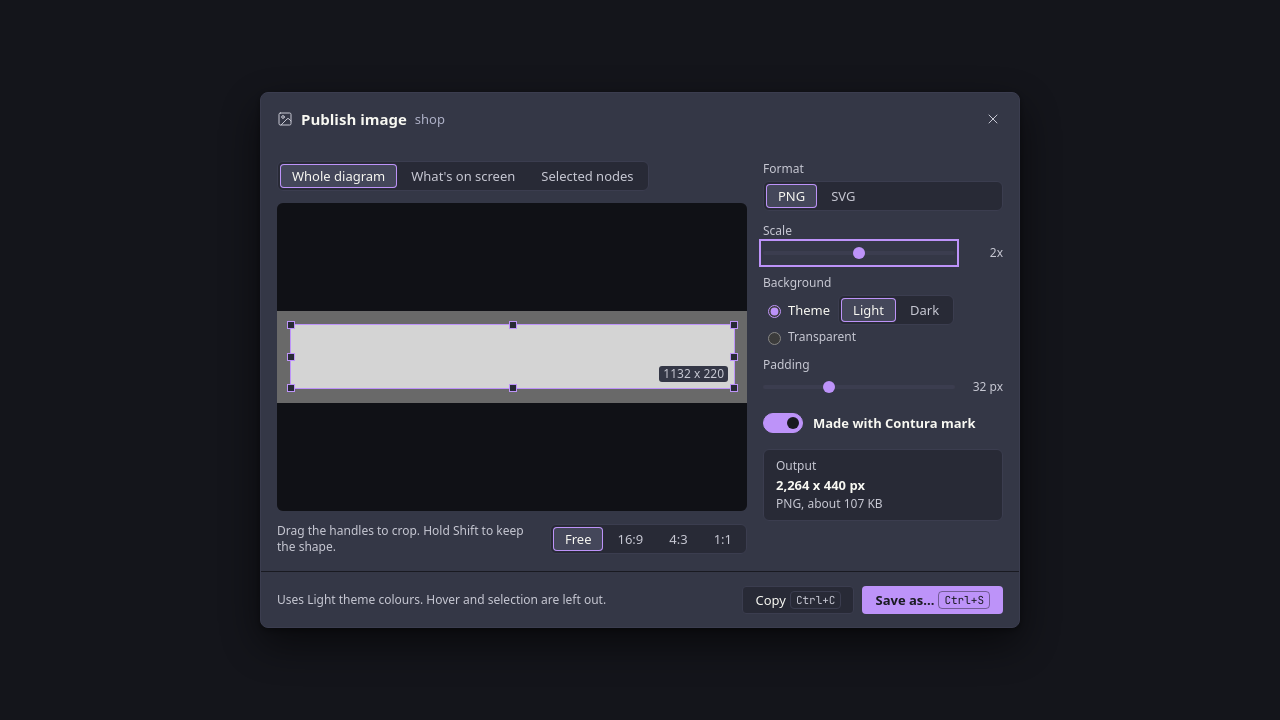
Test: aspect_one_to_one_squares_the_crop
Click the radio button labelled "1:1" at (723, 539), box left=702, top=527, right=744, bottom=551
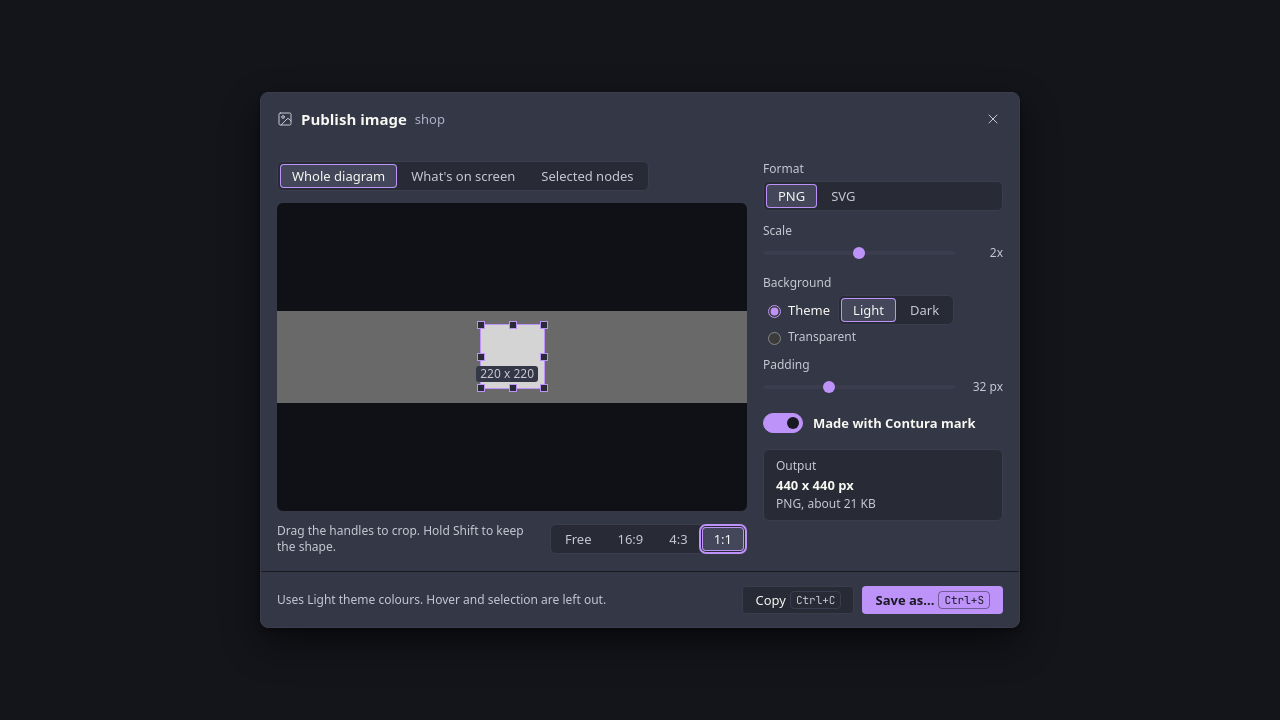
Check: the text "Drag the handles to crop. Hold Shift to keep the shape." is shown, box left=277, top=523, right=542, bottom=555
Check: the text "220 x 220" is shown, box left=476, top=366, right=538, bottom=382
Check: the message "Output" shows "440 x 440 px", box left=776, top=476, right=854, bottom=494
